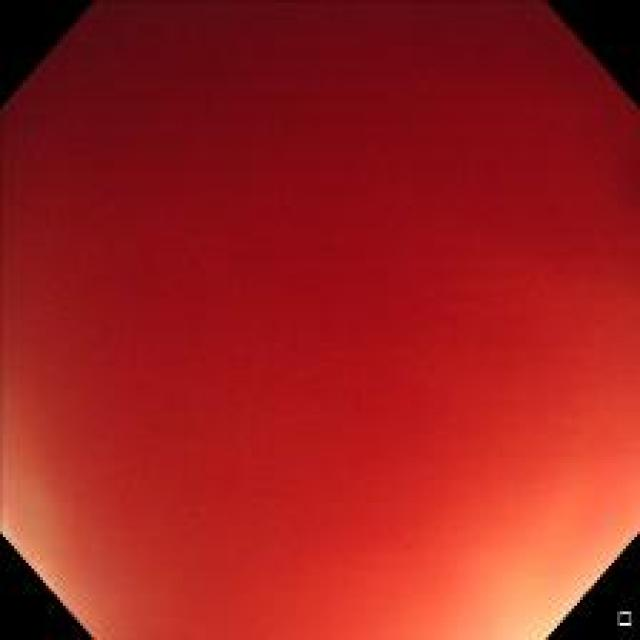color misalignment: (2, 5, 634, 631)
